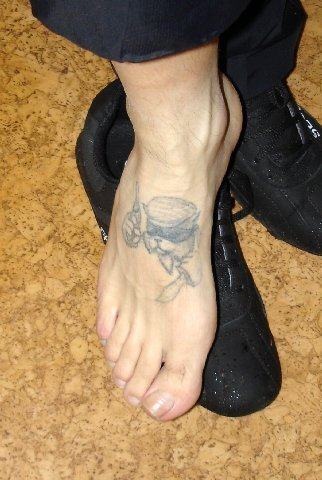tatu8_kot: (119, 180, 204, 303)
